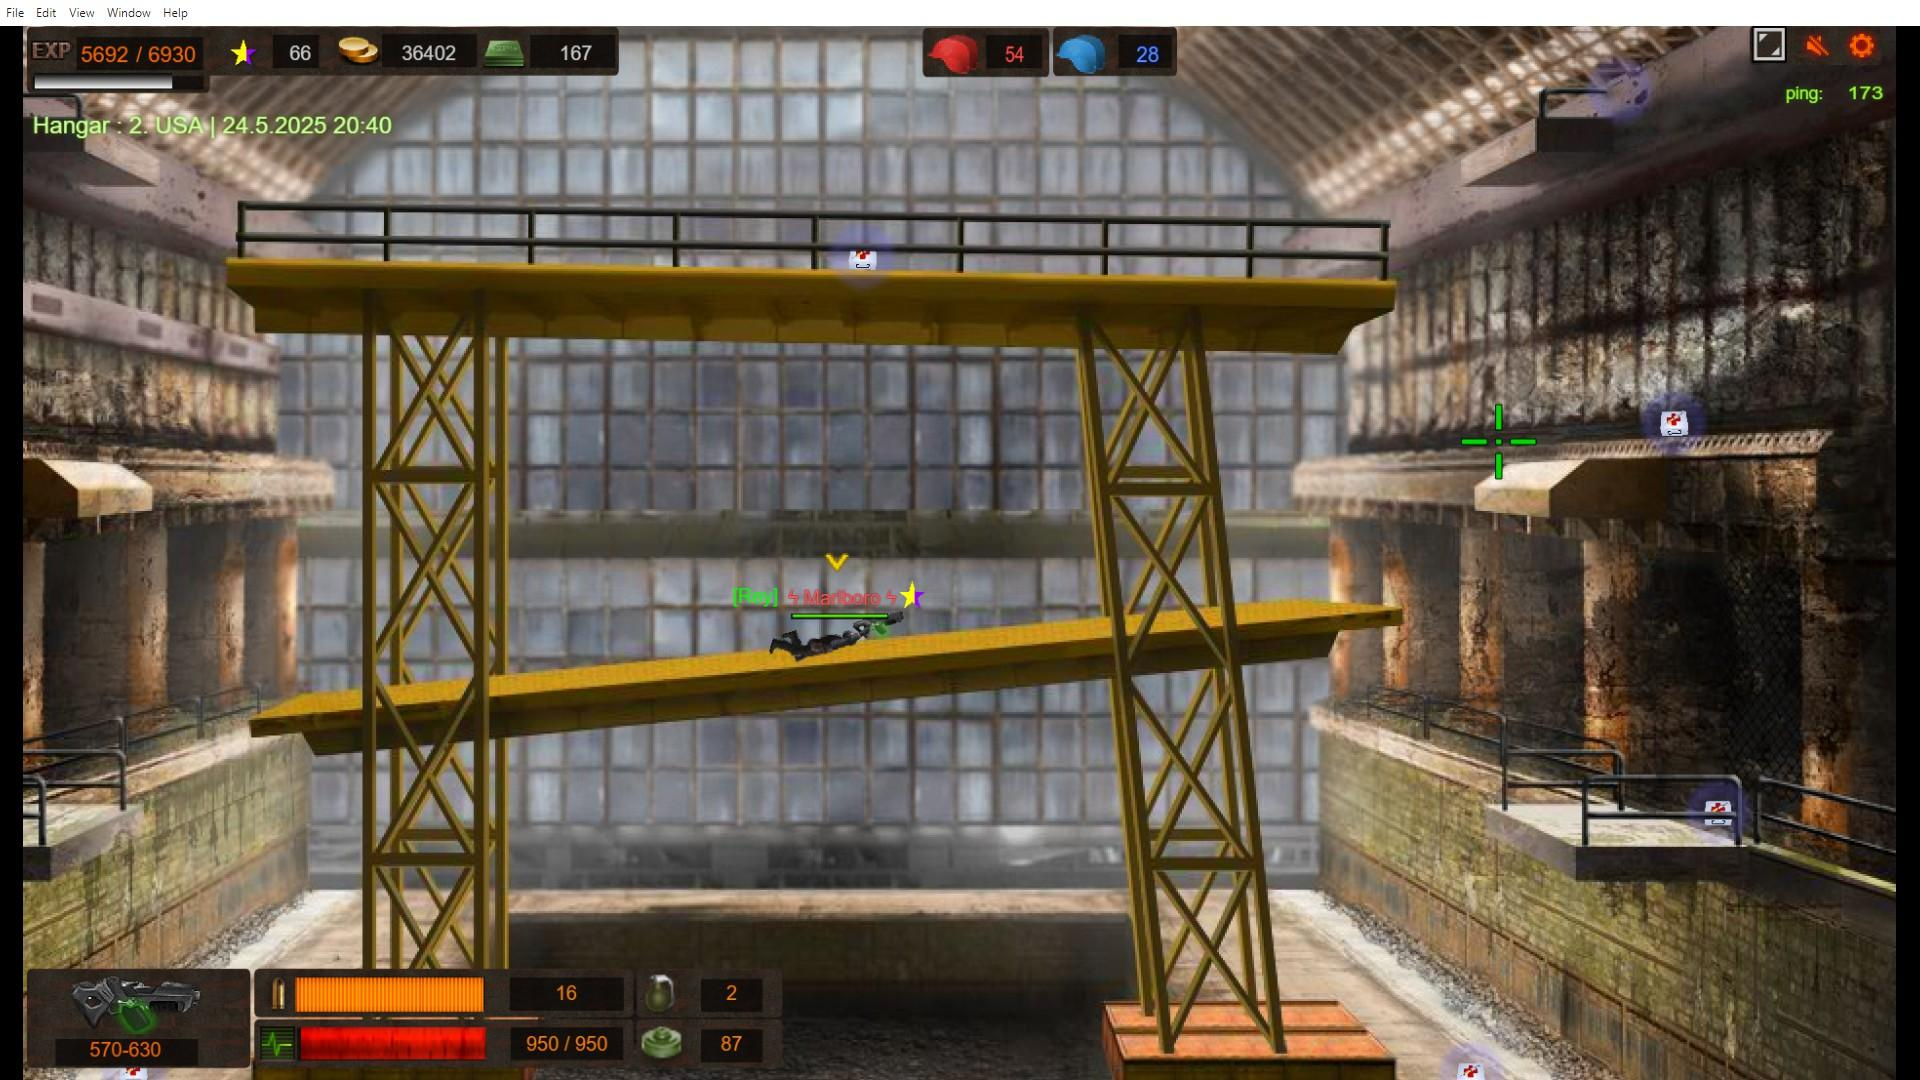enemy: (770, 630, 860, 657)
